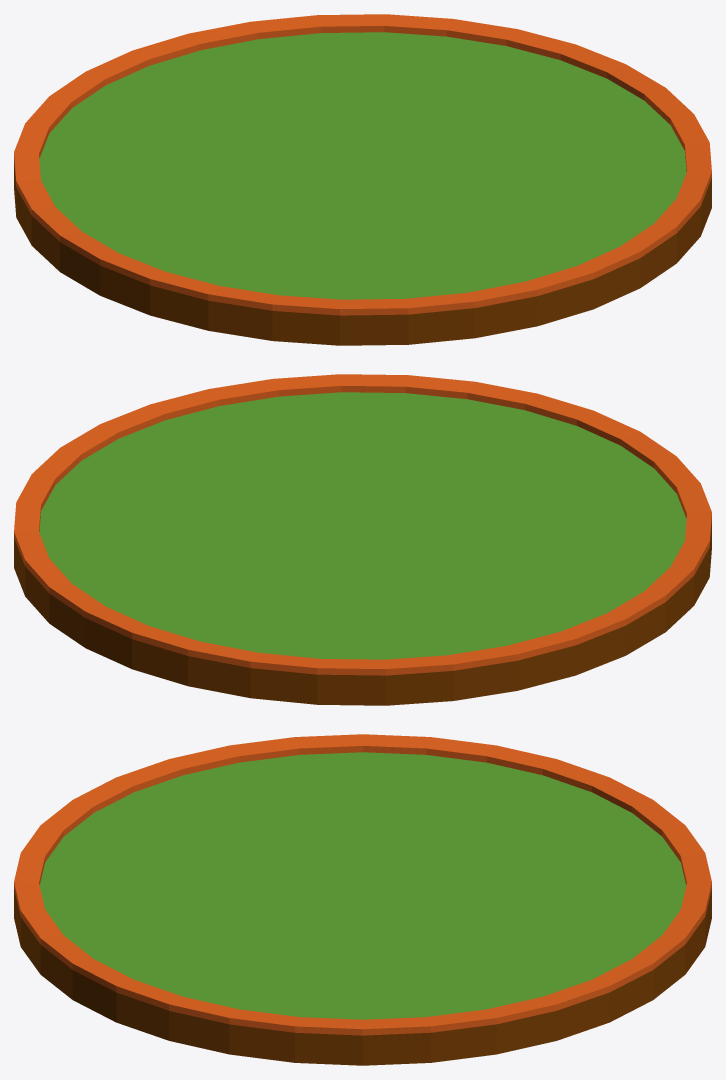
Rendered from Ground.fbx.
3 views of the same model, one above another, from view 1: azimuth 30°, elevation 25°; view 2: azimuth 150°, elevation 25°; view 3: azimuth 270°, elevation 25° (orthographic).
Parts seen in each view (by area): view 1: Ground; view 2: Ground; view 3: Ground.
Boxes of the visible parts, x1,y1,x2,y2 form: Ground: (14, 14, 711, 345); Ground: (14, 374, 711, 705); Ground: (14, 734, 711, 1065).
Size of the model in its own units: 4874 by 282 by 4874.
